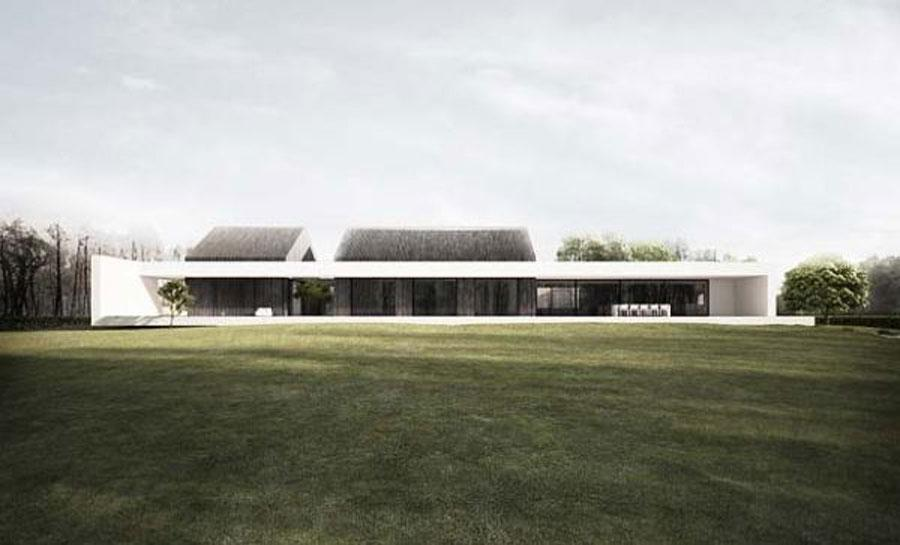affected: (73, 197, 832, 341)
